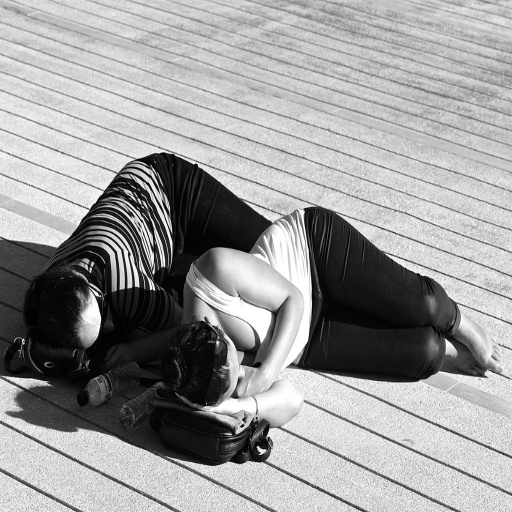hand: (174, 392, 234, 416), (231, 366, 271, 396), (102, 341, 134, 369)
